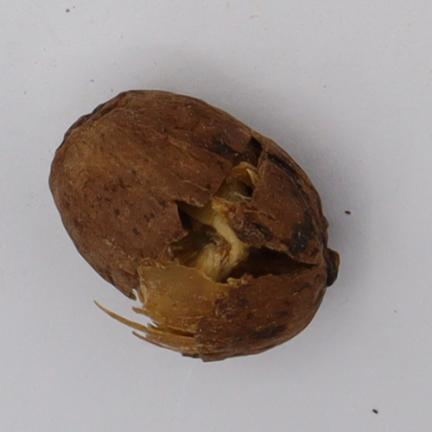husk: (49, 91, 338, 360)
